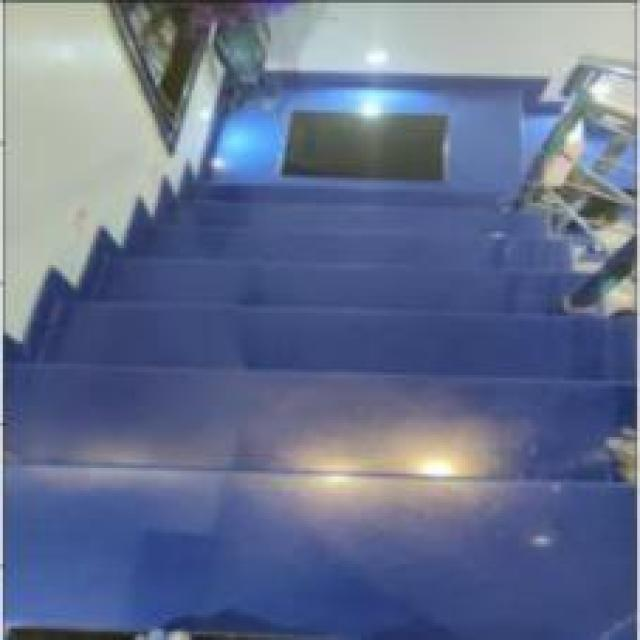downstair: (167, 297, 545, 540)
